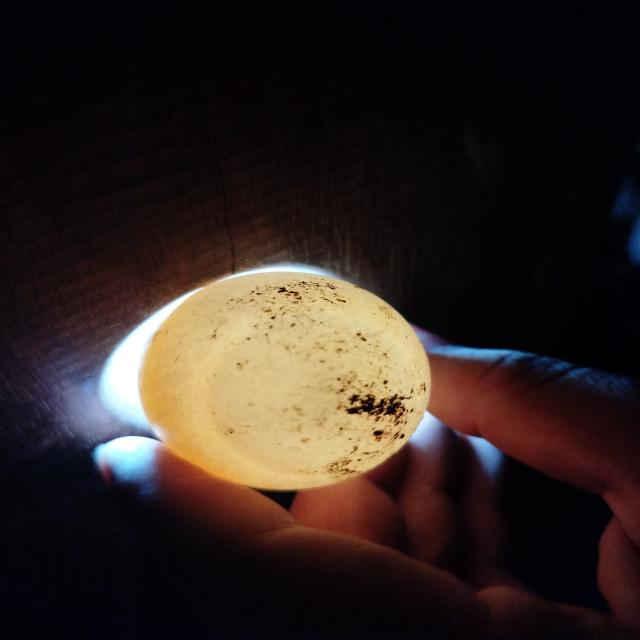Camara de Ar: (209, 331, 401, 472)
